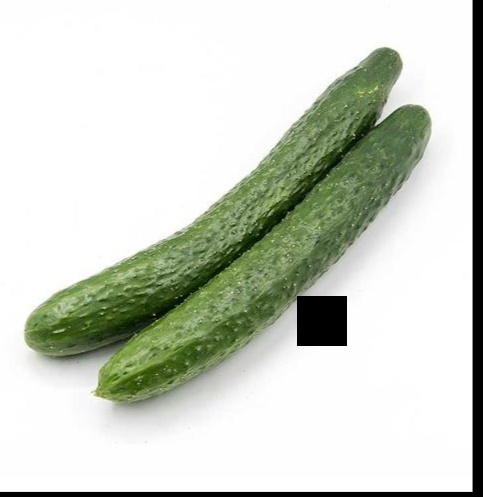cucumber: (30, 54, 404, 357), (100, 98, 426, 403)
